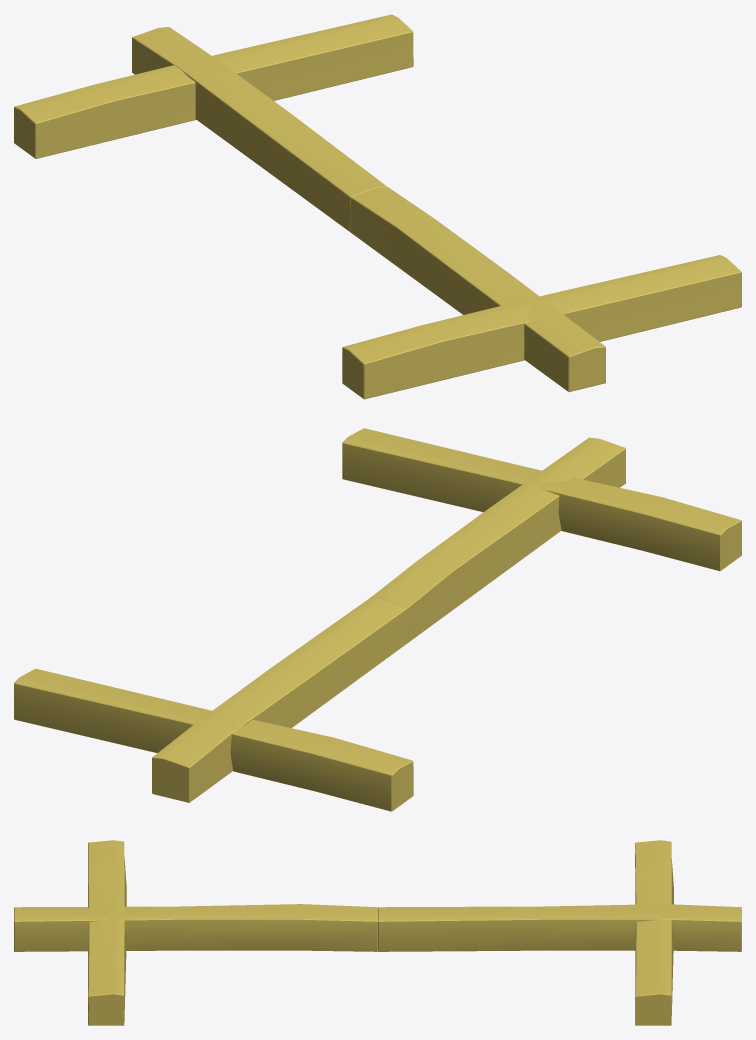
File: Wood_Platform_04A_Lod0.fbx
The picture shows the model from 3 angles, top to bottom: view 1: azimuth 30°, elevation 25°; view 2: azimuth 150°, elevation 25°; view 3: azimuth 270°, elevation 25°; orthographic projection. The views are drawn at different scales.
Parts seen in each view (by area): view 1: Wood_Platform_04A_Lod0; view 2: Wood_Platform_04A_Lod0; view 3: Wood_Platform_04A_Lod0.
Boxes of the visible parts, x1,y1,x2,y2 form: Wood_Platform_04A_Lod0: (14,14,741,399); Wood_Platform_04A_Lod0: (14,428,741,811); Wood_Platform_04A_Lod0: (14,840,741,1025).
Bounding box in the file's own units: 300 × 30.57 × 600.
